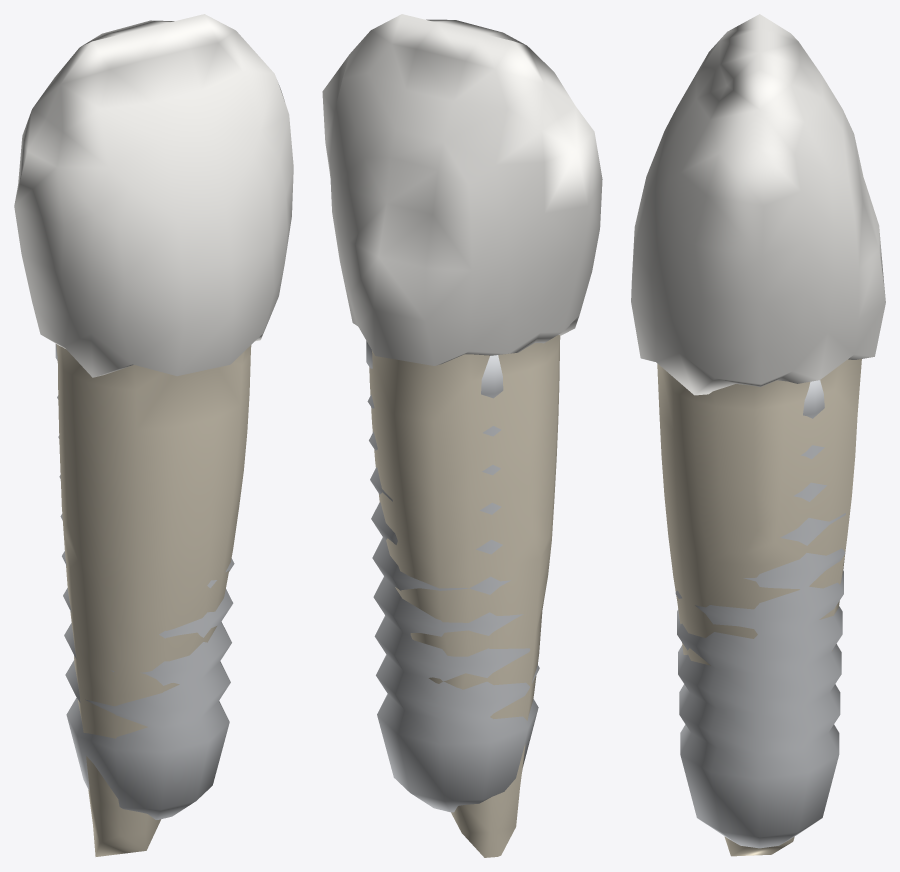
3 renders of one model, left to right at view 1: azimuth 30°, elevation 25°; view 2: azimuth 150°, elevation 25°; view 3: azimuth 270°, elevation 25°, orthographic. The views are drawn at different scales.
Visible parts, largest first — view 1: crown, root, implant; view 2: crown, root, implant; view 3: crown, root, implant.
Part boxes in pixels (left/top/right/bottom): crown: left=14, top=14, right=293, bottom=377; root: left=56, top=344, right=251, bottom=856; implant: left=55, top=344, right=234, bottom=819; crown: left=322, top=14, right=602, bottom=365; root: left=369, top=335, right=560, bottom=857; implant: left=366, top=341, right=540, bottom=812; crown: left=631, top=14, right=885, bottom=395; root: left=657, top=359, right=861, bottom=856; implant: left=675, top=380, right=845, bottom=848.
Bounding box in the file's own units: 5.66 × 16.61 × 4.59.
